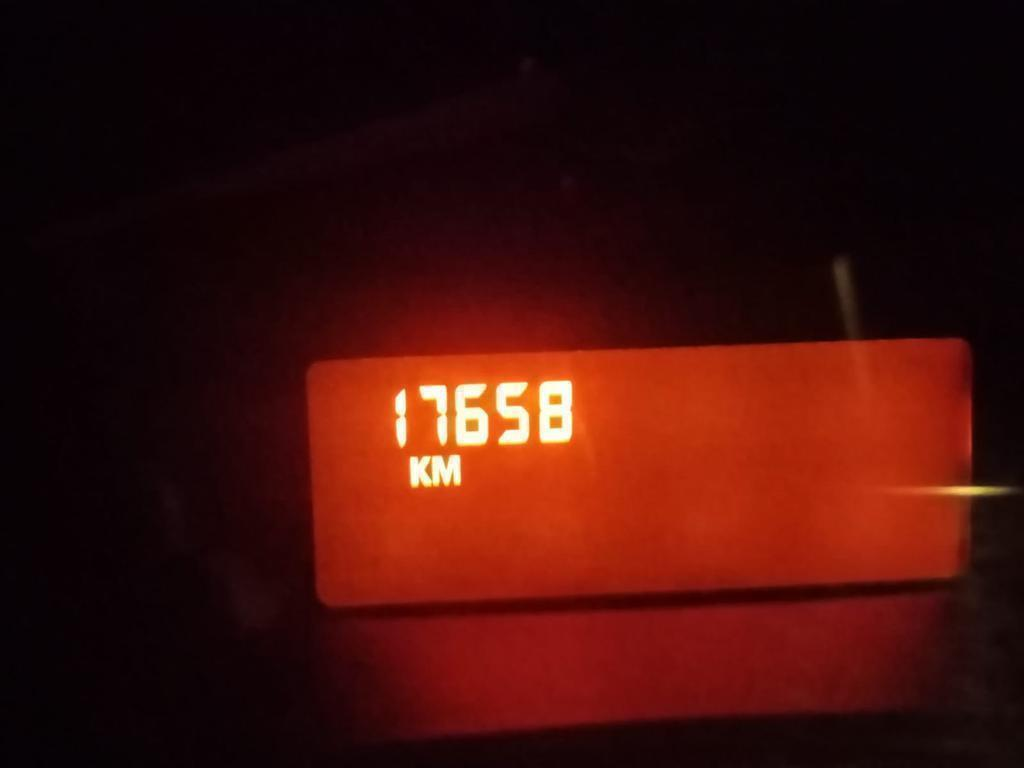1: (385, 384, 413, 451)
5: (493, 378, 532, 448)
6: (453, 380, 490, 449)
7: (415, 380, 451, 447)
8: (535, 377, 575, 446)
X: (431, 453, 464, 488), (406, 453, 431, 491)
odometer: (286, 327, 984, 613)
